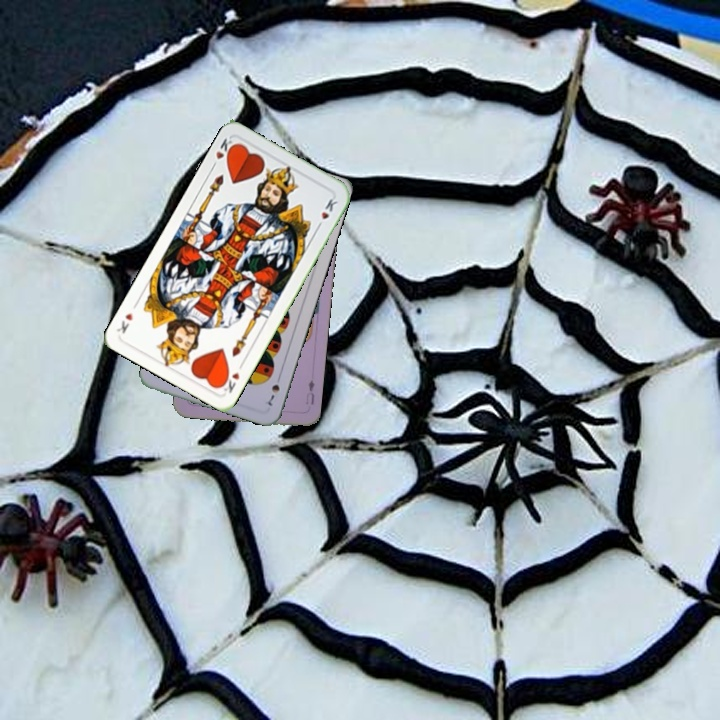EU: (302, 376, 317, 407)
HK: (217, 358, 247, 396), (212, 134, 238, 164)
S7: (264, 371, 284, 409)
